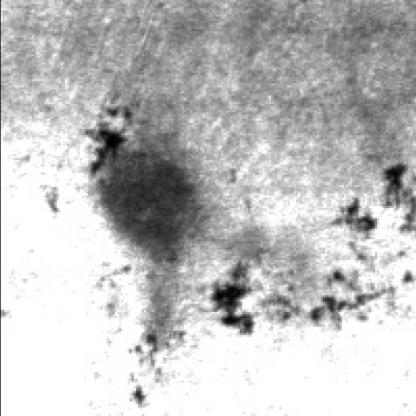patches: (88, 152, 210, 272)
